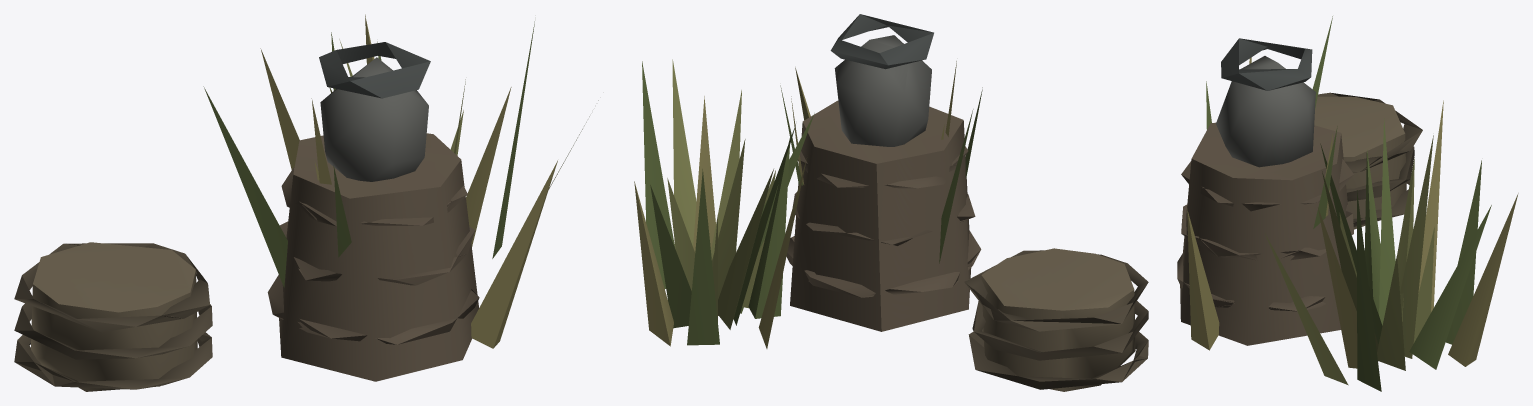
The model's file is rope_basket_c_lod2.glb.
3 renders of one model, left to right at view 1: azimuth 30°, elevation 25°; view 2: azimuth 150°, elevation 25°; view 3: azimuth 270°, elevation 25°, orthographic. The views are drawn at different scales.
Parts seen in each view (by area): view 1: Surface.001; view 2: Surface.001; view 3: Surface.001.
Boxes of the visible parts, x1,y1,x2,y2 form: Surface.001: [14, 14, 598, 391]; Surface.001: [634, 14, 1148, 391]; Surface.001: [1177, 16, 1518, 391].
Bounding box in the file's own units: 1.8 × 0.9081 × 1.09.
